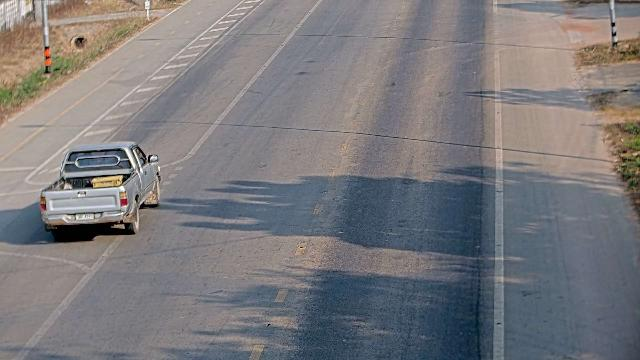pickup-truck: (38, 140, 161, 237)
